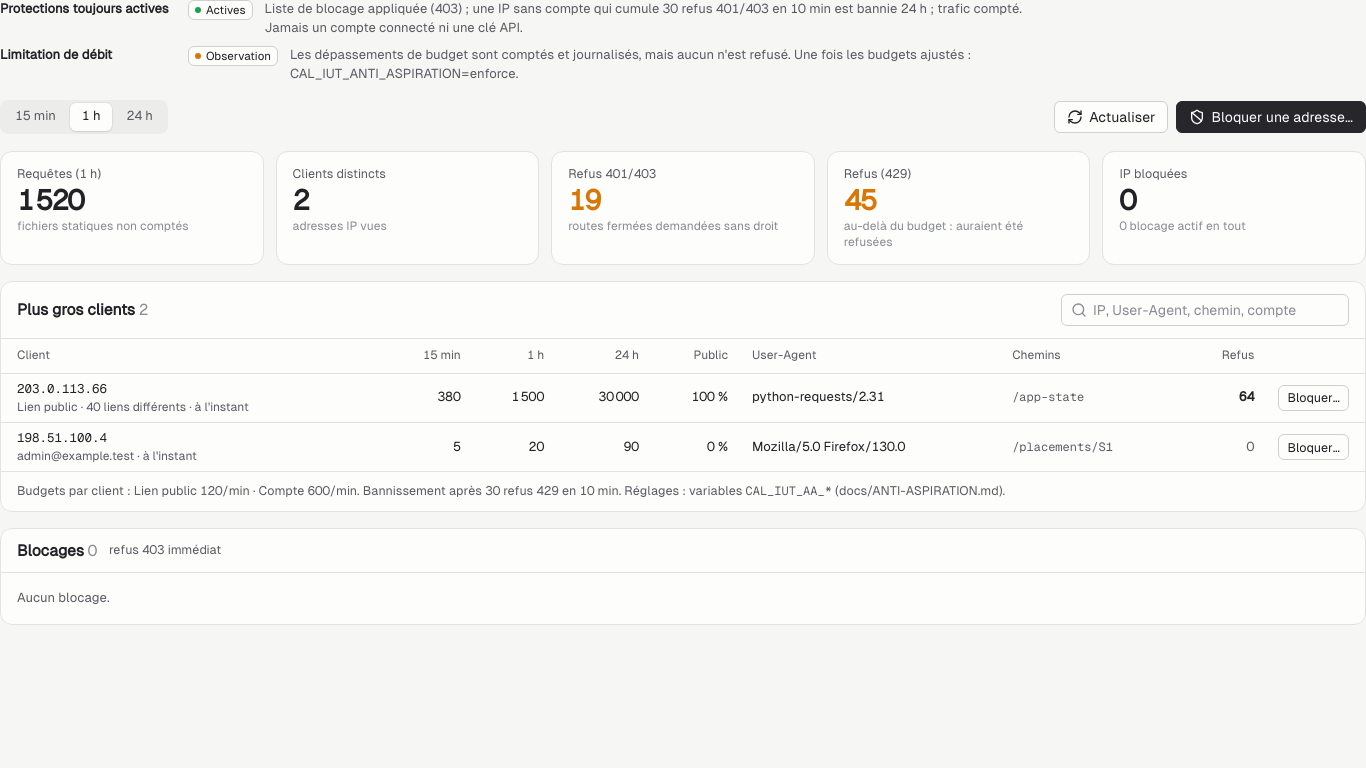
Scenario: TraficView › passer au User-Agent reprend celui de la ligne
This screenshot has width=1366, height=768.
Expected: the text "Observation" is shown, x1=188 y1=46 x2=278 y2=66
Click the button with aria-label "Bloquer 203.0.113.66…" at (1314, 398), box x1=1278 y1=385 x2=1349 y2=411
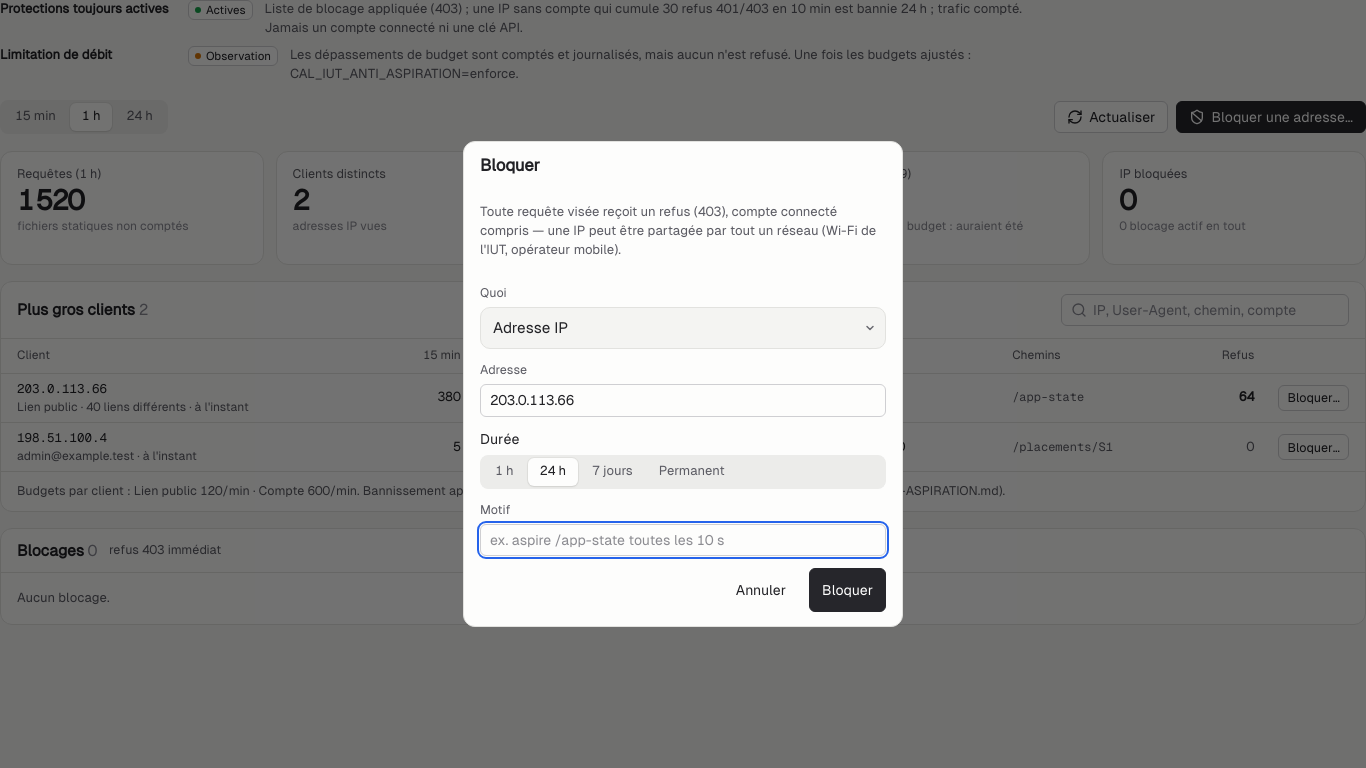
Select "User-Agent (contient…)" in the dropdown labelled "Quoi" at (683, 328), box x1=480 y1=307 x2=886 y2=349
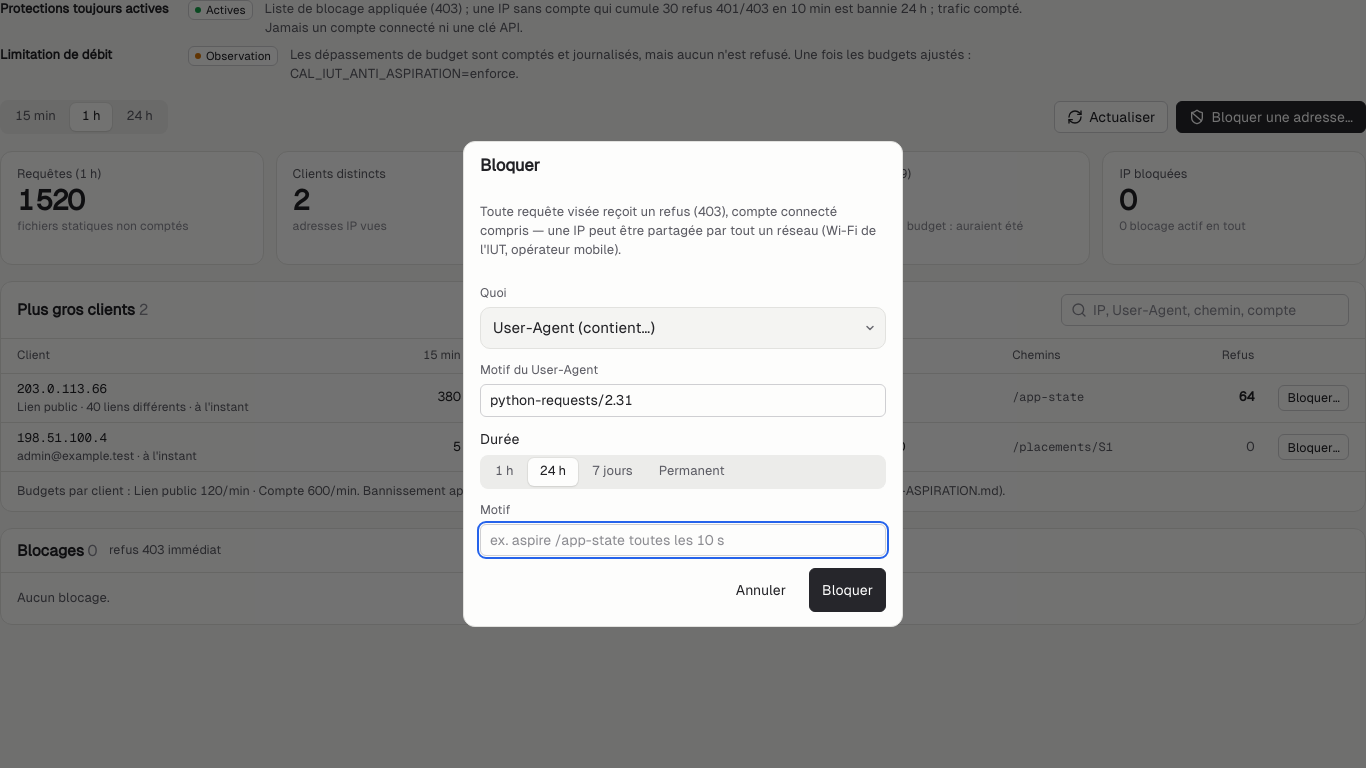
Expected: the field showing "python-requests/2.31" is shown, x1=480 y1=384 x2=886 y2=416
Press Escape
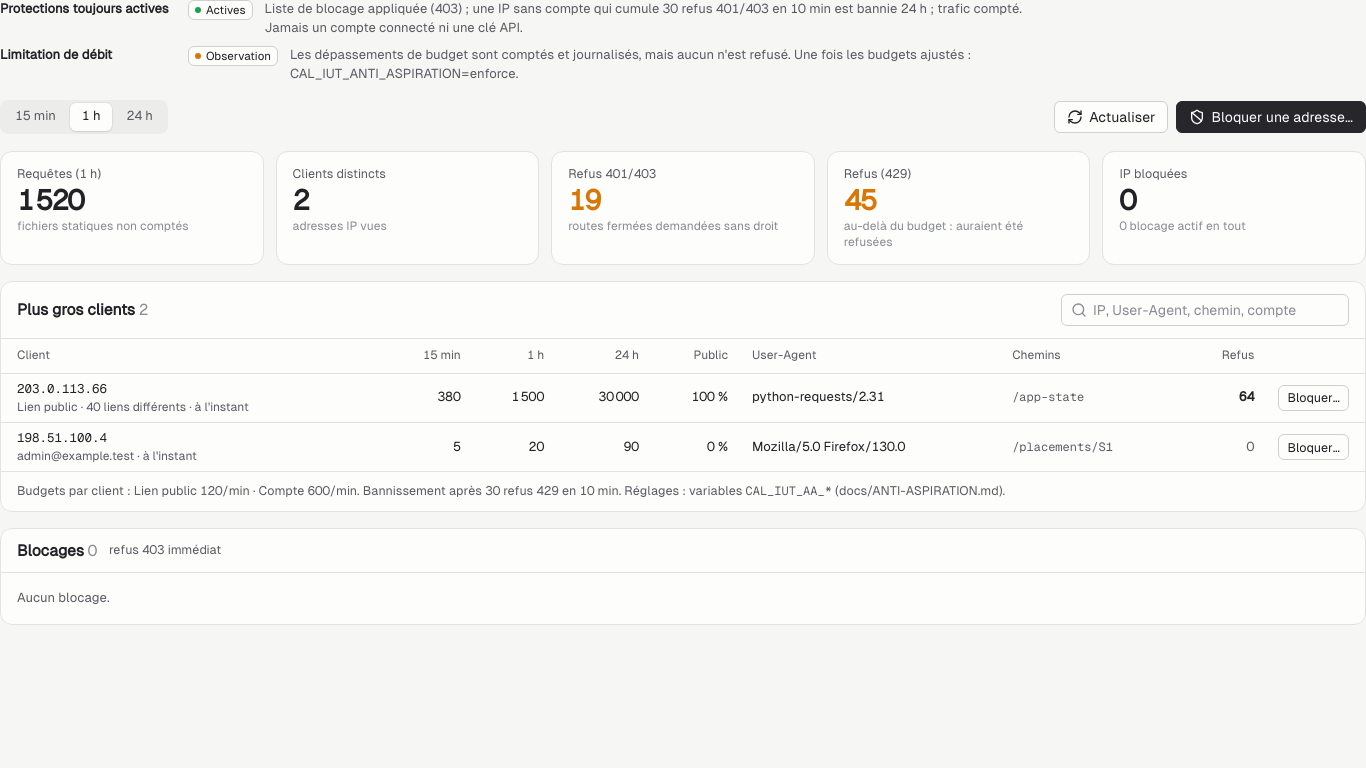
Expected: the dialog is gone
